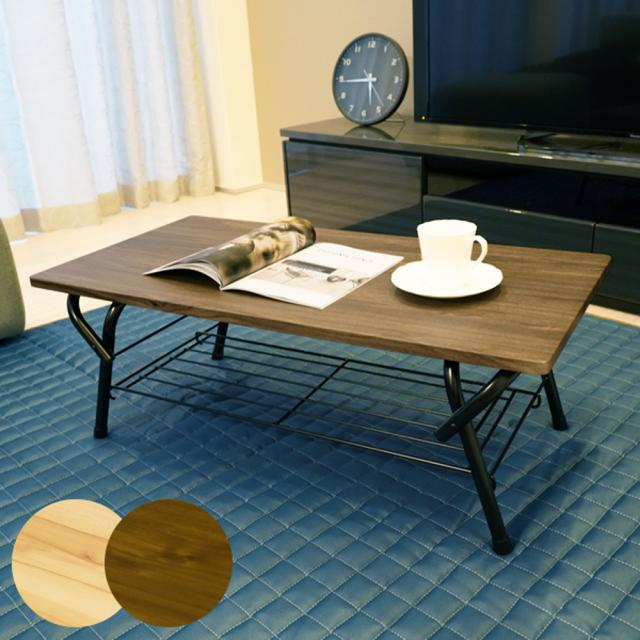vintage desk: (31, 214, 610, 562)
